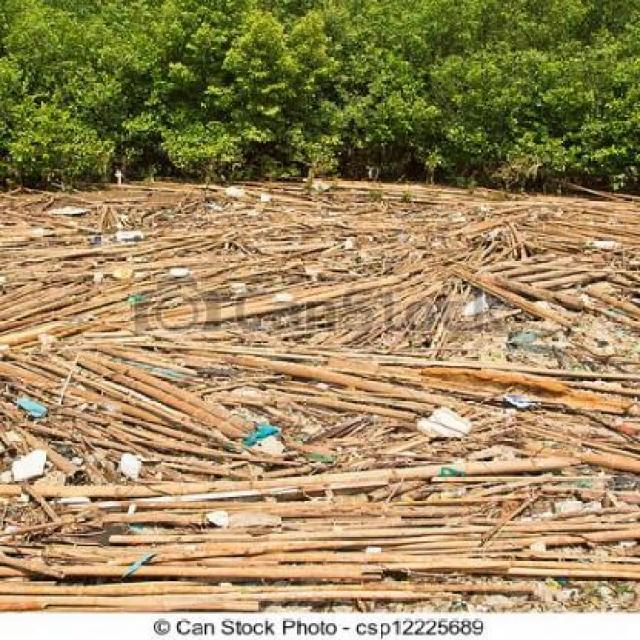garbage: (496, 303, 563, 358), (12, 389, 68, 436), (495, 380, 540, 421), (234, 425, 295, 455)
